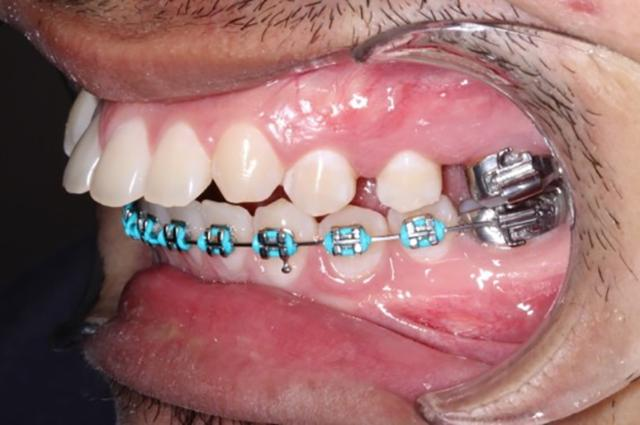canine class II full class: (214, 111, 392, 290)
